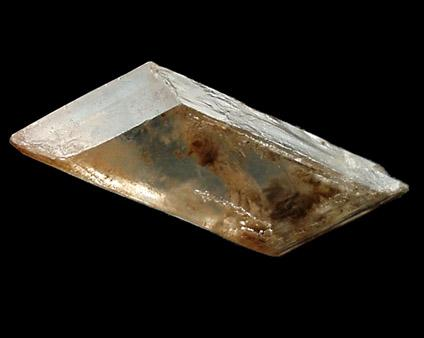gypsum: (10, 62, 409, 256)
